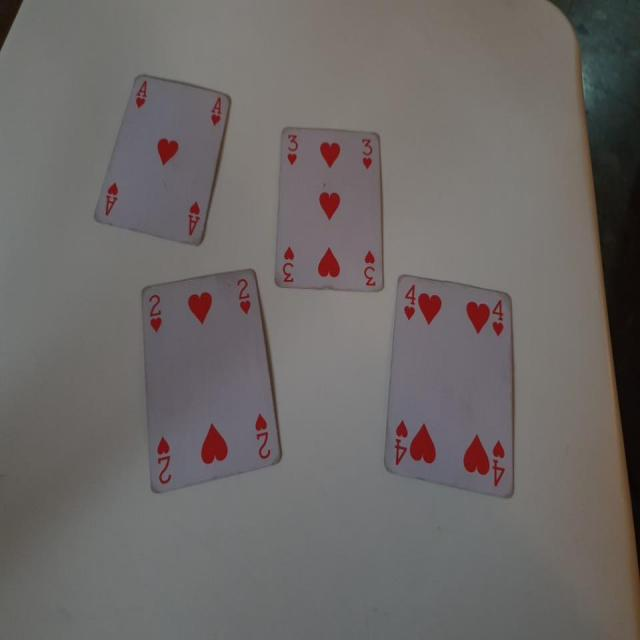2 Hearts: (128, 263, 288, 510)
3 Hearts: (273, 118, 392, 305)
4 Hearts: (379, 266, 524, 506)
A Hearts: (90, 61, 235, 250)
